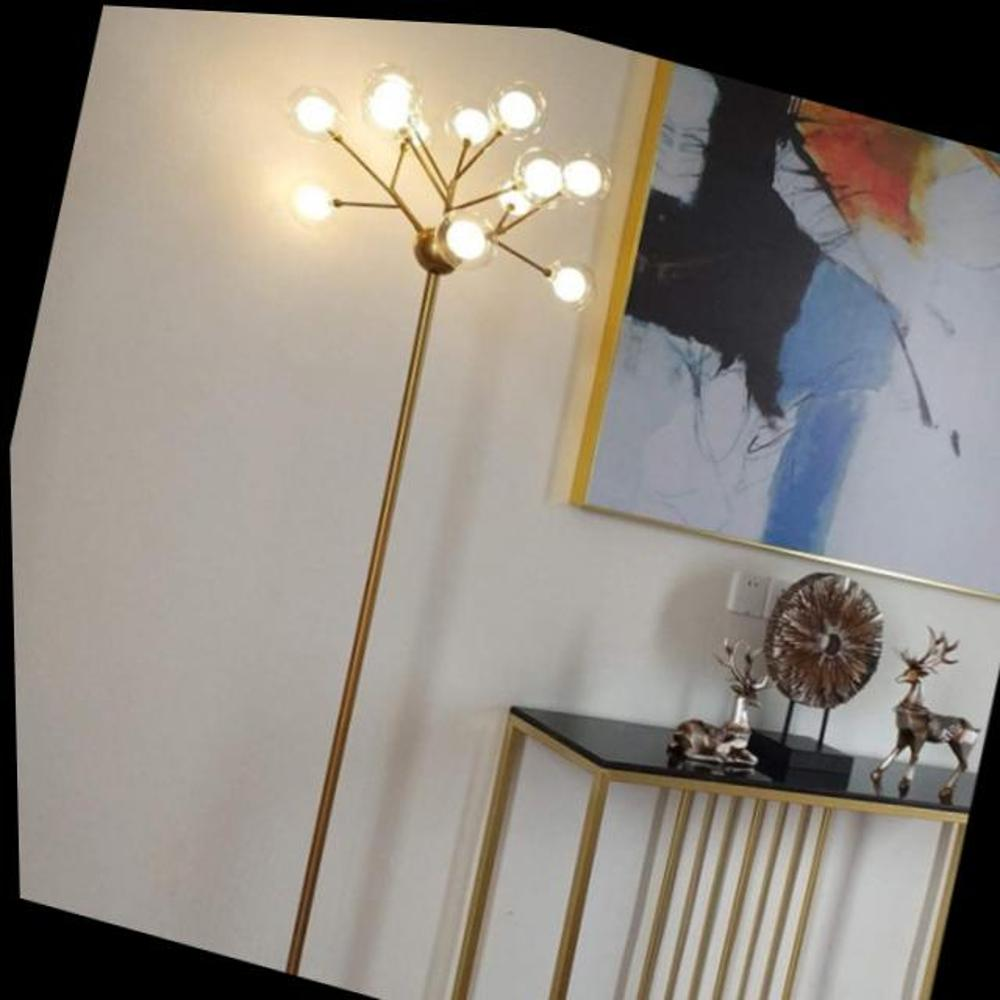shelf: (67, 3, 666, 1000)
